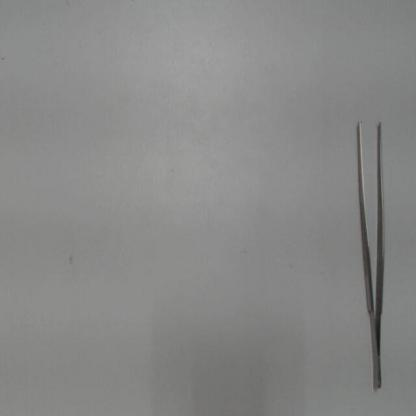Gillies Toothed Dissector: (351, 114, 387, 392)
